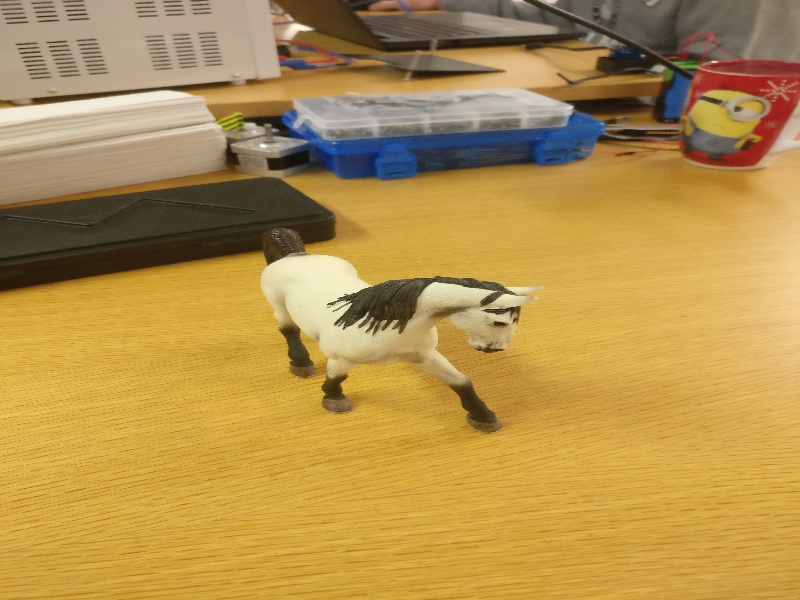toy: (254, 219, 542, 438)
